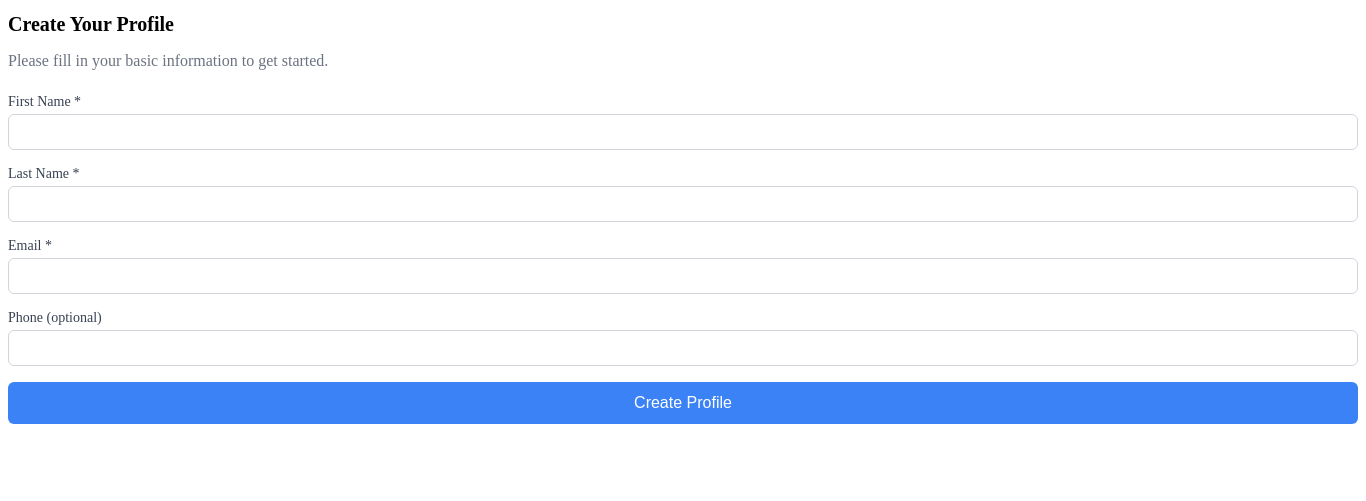
Test: Step1_ProfileForm › submission behavior › should display error message when API returns error
Type "John" into the field with test id "input-firstName" at {"x": 683, "y": 132}, box [8,114,1358,150]
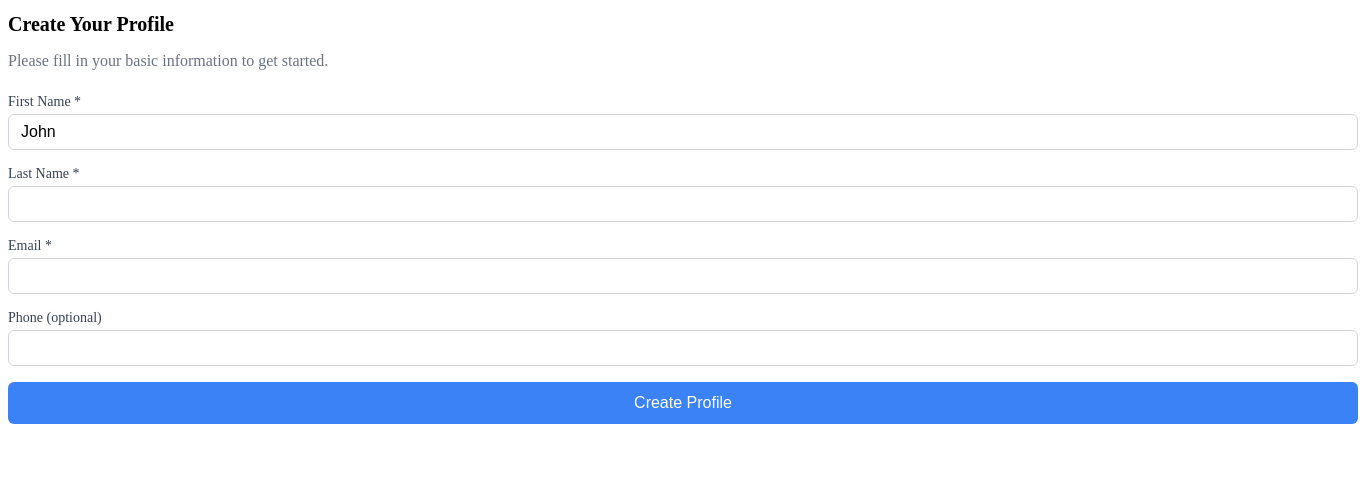
Type "Doe" into the field with test id "input-lastName" at {"x": 683, "y": 204}, box [8,186,1358,222]
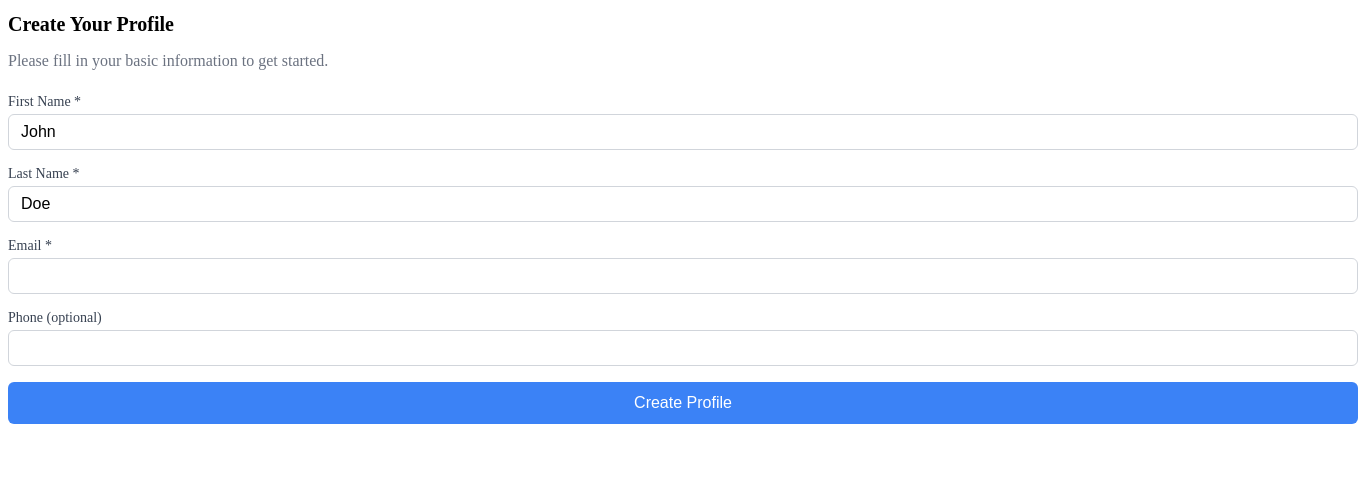
Type "taken@example.com" into the field with test id "input-email" at {"x": 683, "y": 276}, box [8,258,1358,294]
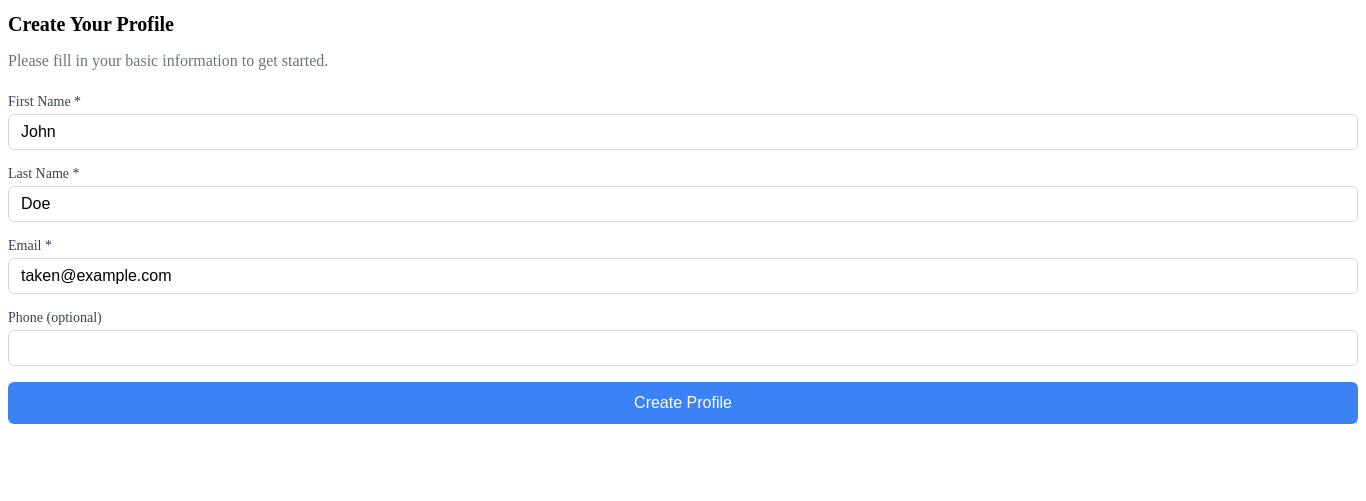
Click the button with test id "step1-submit" at {"x": 683, "y": 403}, box [8,382,1358,424]
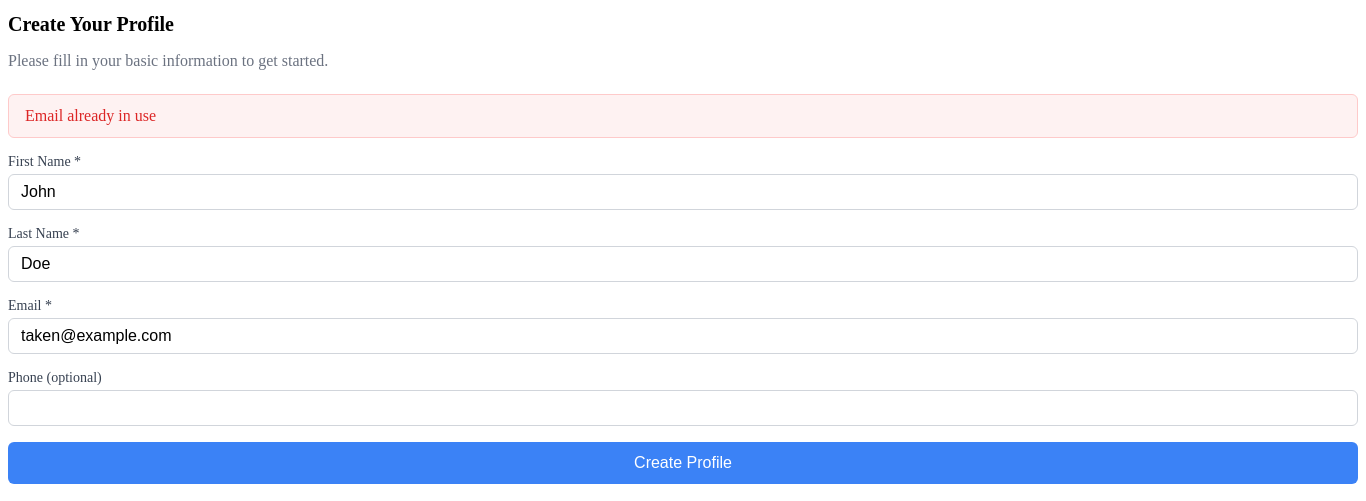
Now the text with test id "step1-api-error" reads "Email already in use", box [25,107,156,124]
